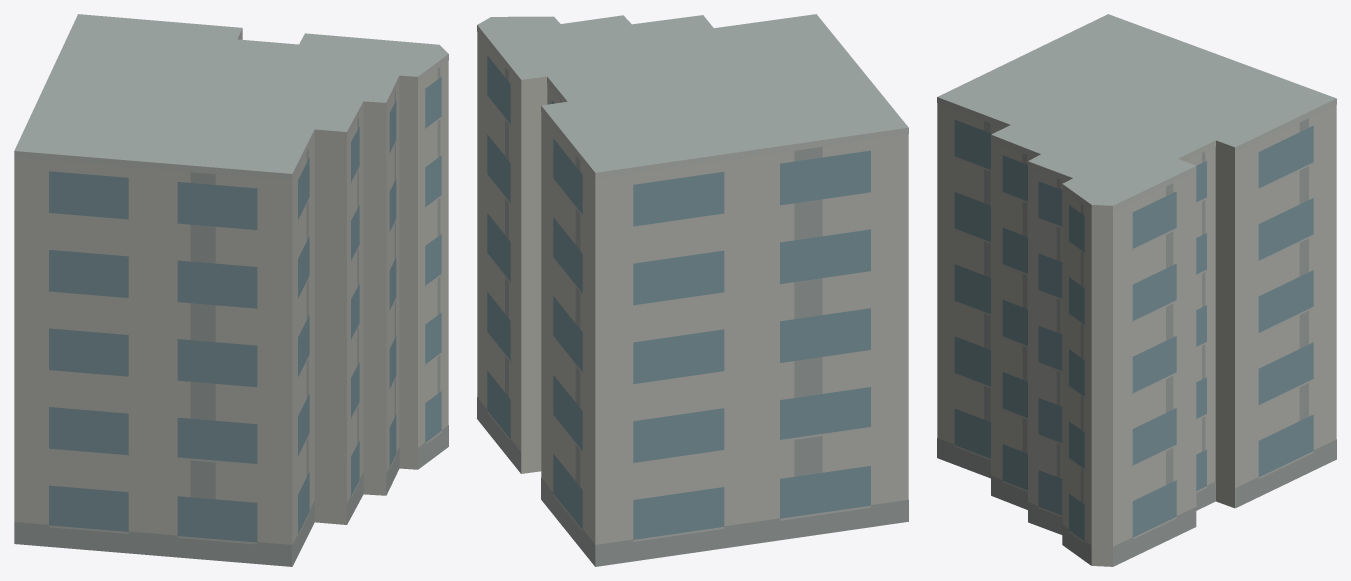
Rendered from survey-upis-32527566.glb.
The picture shows the model from 3 angles, left to right: view 1: azimuth 30°, elevation 25°; view 2: azimuth 150°, elevation 25°; view 3: azimuth 270°, elevation 25°; orthographic projection. The views are drawn at different scales.
Visible parts, largest first — view 1: survey-upis-32527566.tmp; view 2: survey-upis-32527566.tmp; view 3: survey-upis-32527566.tmp.
Part boxes in pixels (box(x1,y1,x2,y2)): survey-upis-32527566.tmp: box(14, 14, 448, 566); survey-upis-32527566.tmp: box(477, 14, 908, 566); survey-upis-32527566.tmp: box(937, 14, 1336, 566).
Size of the model in its own units: 16.3 by 14.3 by 14.35.
